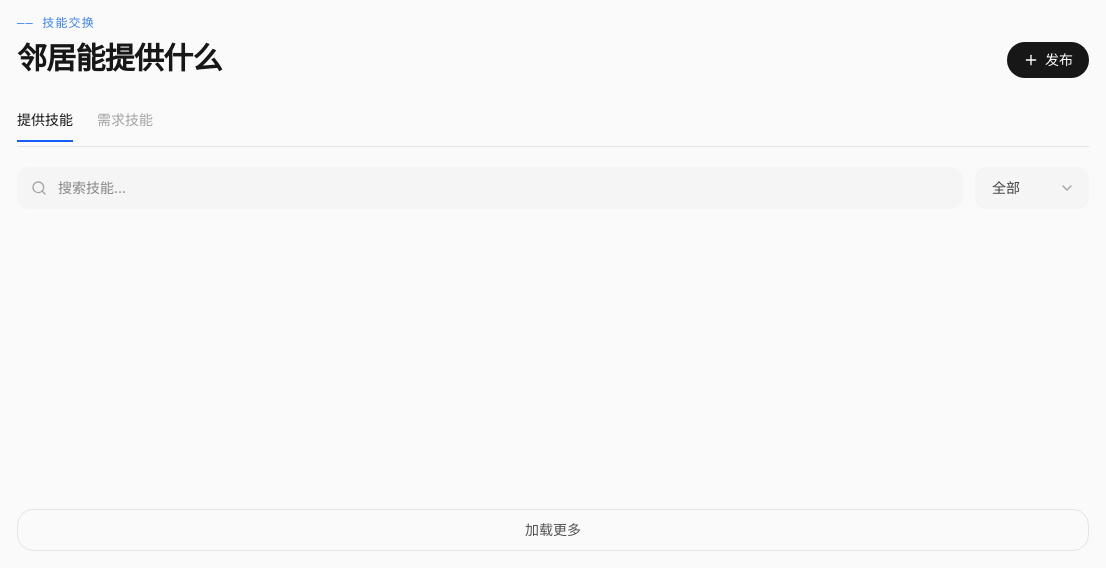
Scenario: SkillExchange/index 技能交换列表页 › 搜索框 X 清除按钮清空搜索
先输入文本触发 X 按钮渲染
Type "电脑" into the field with placeholder "搜索技能...". click: coordinates (490, 188)
box: 17,166 -> 963,208
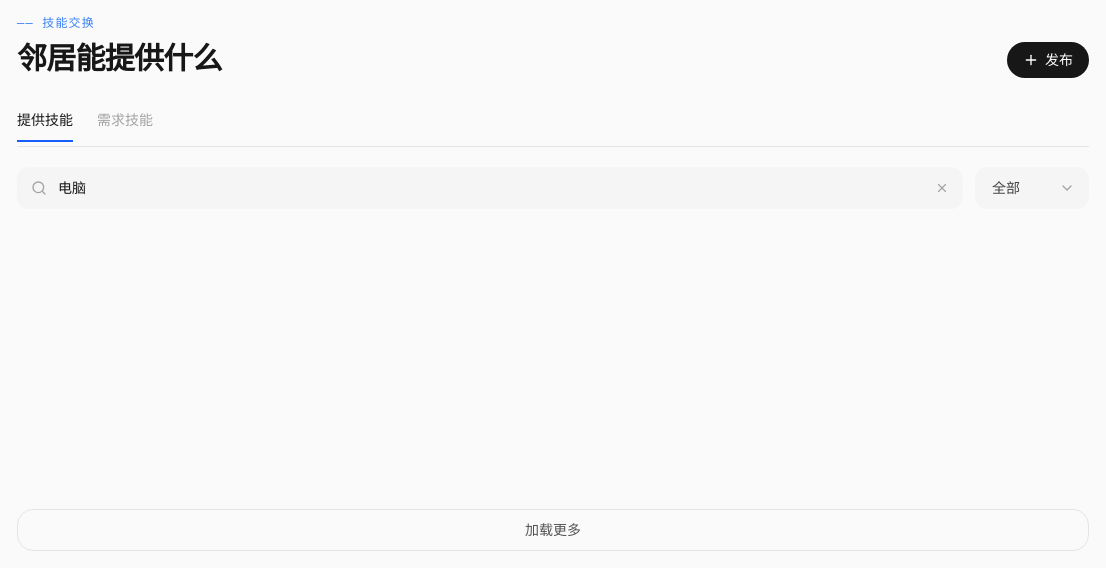
Check: the icon with class "lucide-x" is shown, box 935,180 -> 949,194
Click the button with class "lucide-x". click: coordinates (942, 188)
box: 929,174 -> 955,200
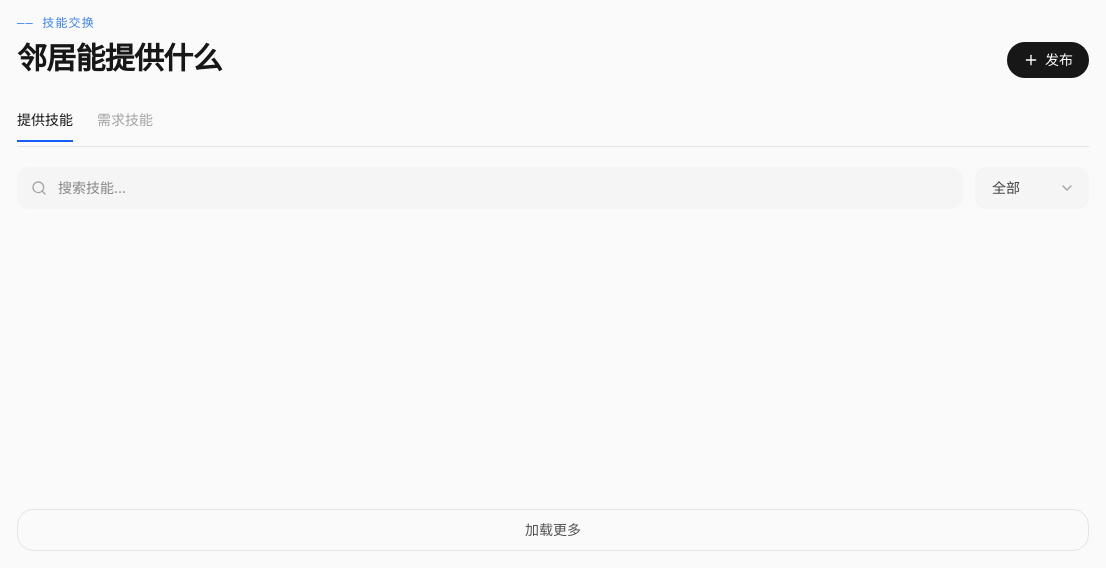
Check: the field with placeholder "搜索技能..." is empty, box 17,166 -> 963,208
